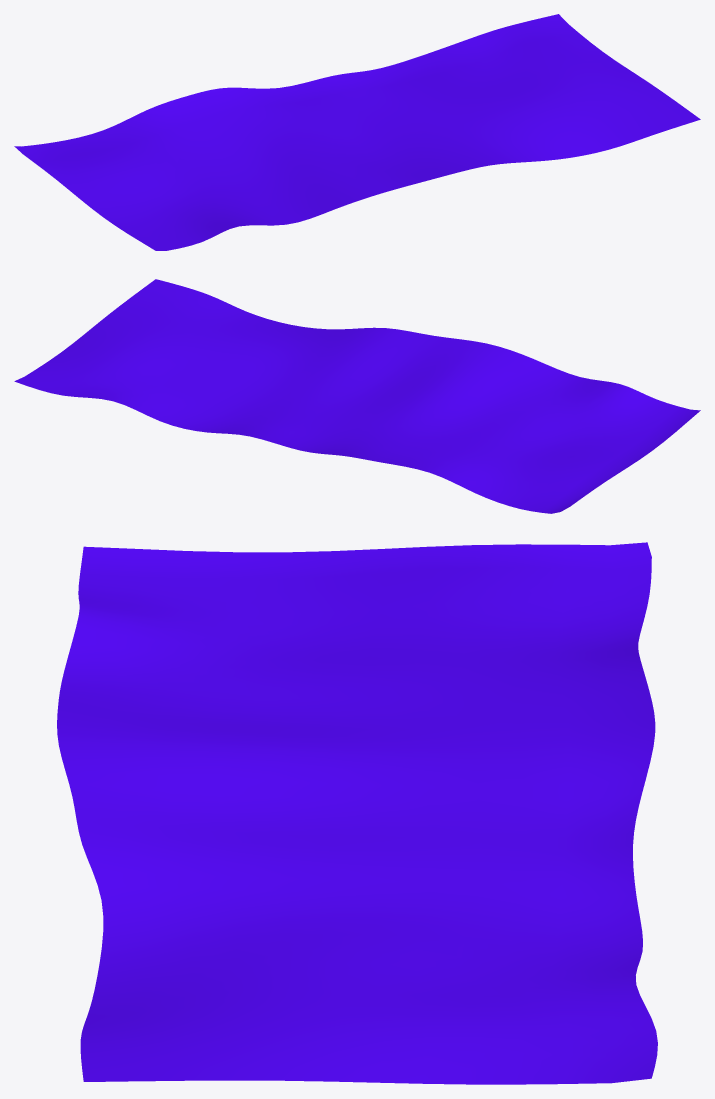
The picture shows the model from 3 angles, top to bottom: view 1: azimuth 30°, elevation 25°; view 2: azimuth 150°, elevation 25°; view 3: azimuth 270°, elevation 25°; orthographic projection. The views are drawn at different scales.
Parts seen in each view (by area): view 1: ER; view 2: ER; view 3: ER.
Boxes of the visible parts, x1,y1,x2,y2 form: ER: (14,14,700,250); ER: (14,279,700,513); ER: (57,542,657,1084).
Size of the model in its own units: 4.38 by 0.1574 by 2.09.
